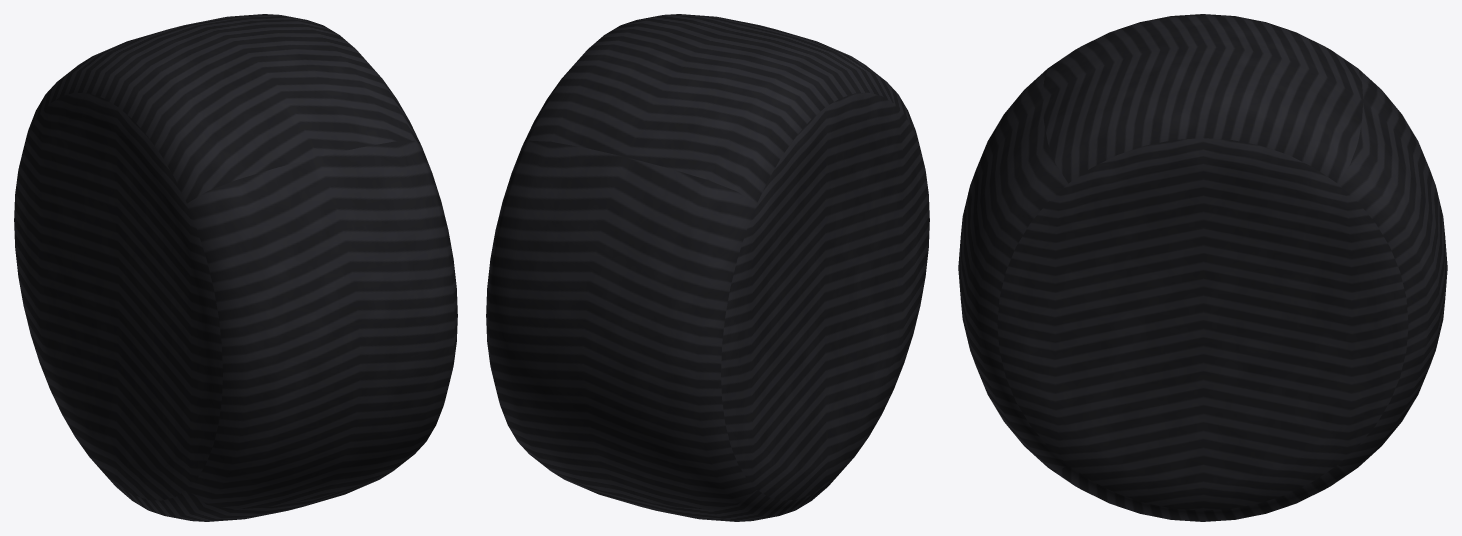
File: kart_wheel.glb
3 views of the same model, side by side, from view 1: azimuth 30°, elevation 25°; view 2: azimuth 150°, elevation 25°; view 3: azimuth 270°, elevation 25° (orthographic).
Parts seen in each view (by area): view 1: TireBody; view 2: TireBody; view 3: TireBody.
Boxes of the visible parts, x1=… form: TireBody: x1=14, y1=14, x2=457, y2=521; TireBody: x1=486, y1=14, x2=929, y2=521; TireBody: x1=958, y1=14, x2=1447, y2=521.
Bounding box in the file's own units: 0.5567 × 0.9963 × 0.9964.
Materials: 3 (2 with a texture image).
